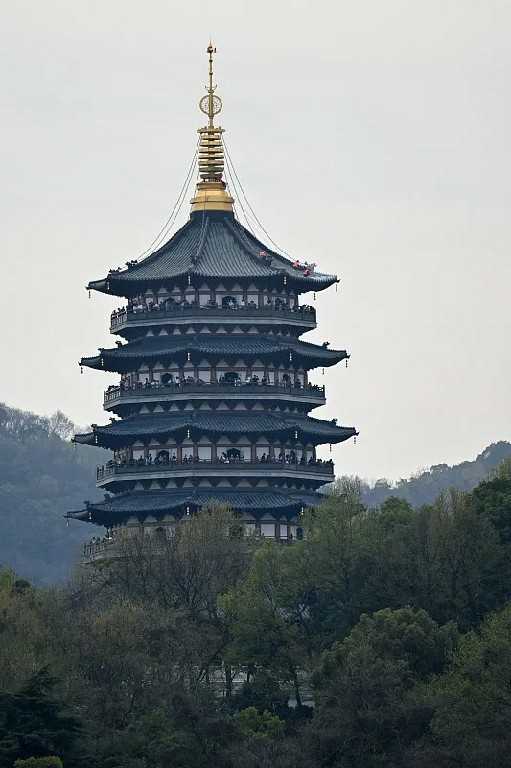Leifeng: (61, 36, 365, 560)
